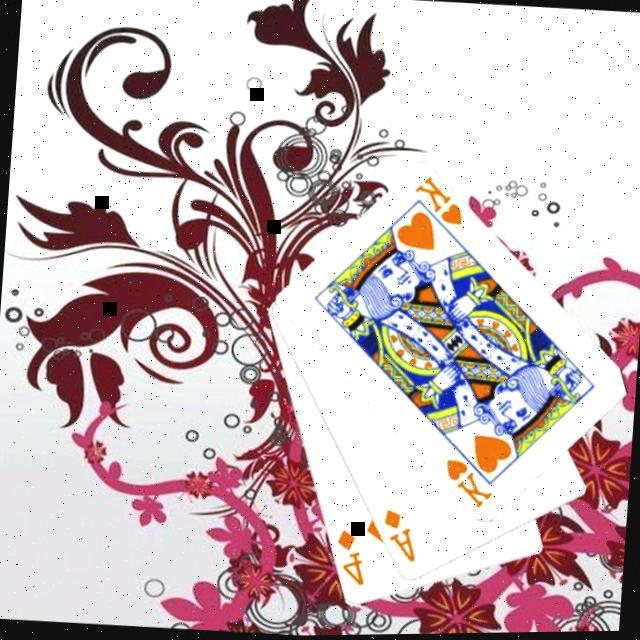4D: (332, 527, 372, 589)
AD: (379, 504, 424, 568)
KH: (440, 455, 500, 514), (410, 172, 470, 231)
